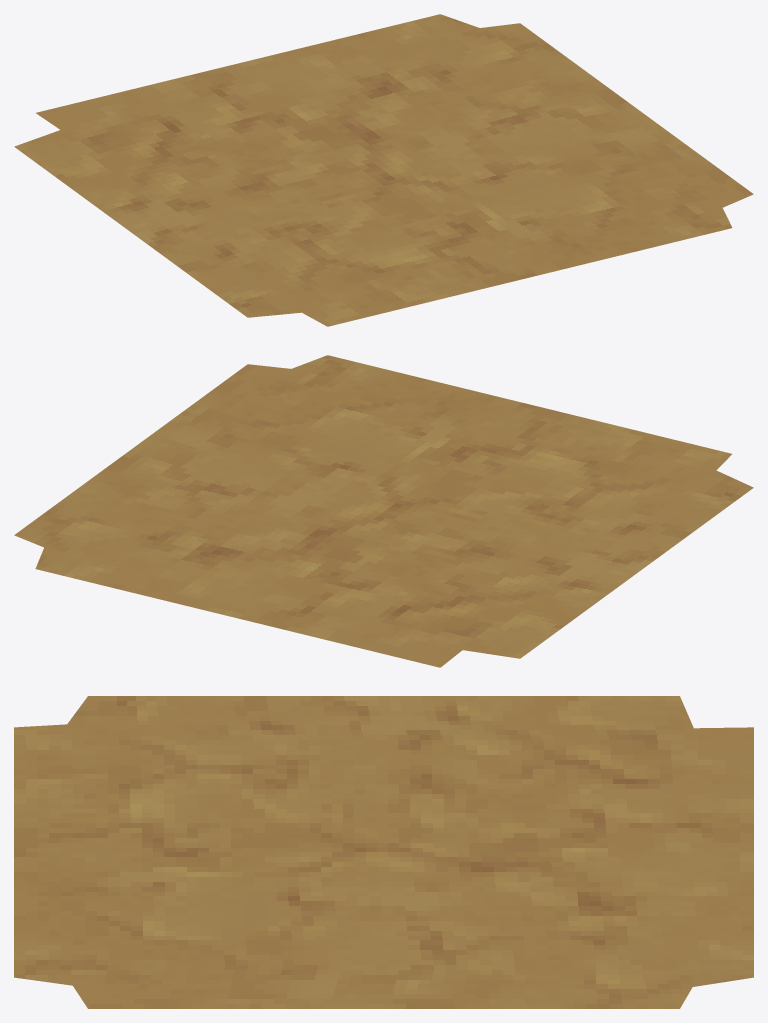
The model's file is Dirt X.fbx.
3 renders of one model, top to bottom at view 1: azimuth 30°, elevation 25°; view 2: azimuth 150°, elevation 25°; view 3: azimuth 270°, elevation 25°, orthographic. The views are drawn at different scales.
Parts seen in each view (by area): view 1: Dirt_X; view 2: Dirt_X; view 3: Dirt_X.
Part boxes in pixels (x1,y1,x2,y2): Dirt_X: (14,14,753,326); Dirt_X: (14,355,753,667); Dirt_X: (14,696,753,1008).
Bounding box in the file's own units: 1 × 0 × 1.
